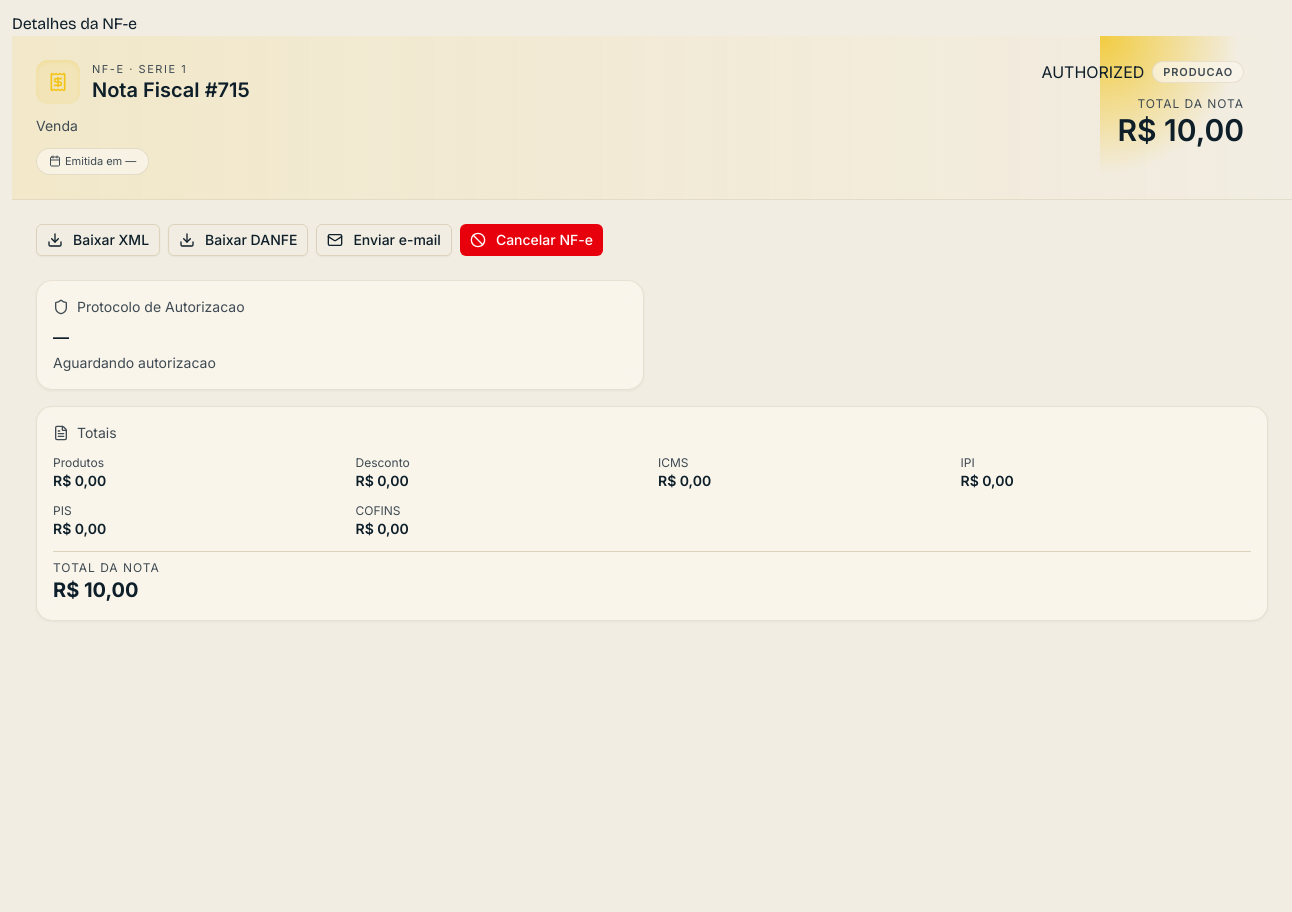
Test case: ficha da nota — erro no download aparece › corpo sem texto: frase padrão
Click the button "Baixar DANFE". click: (238, 240)
box: [168,224,308,256]
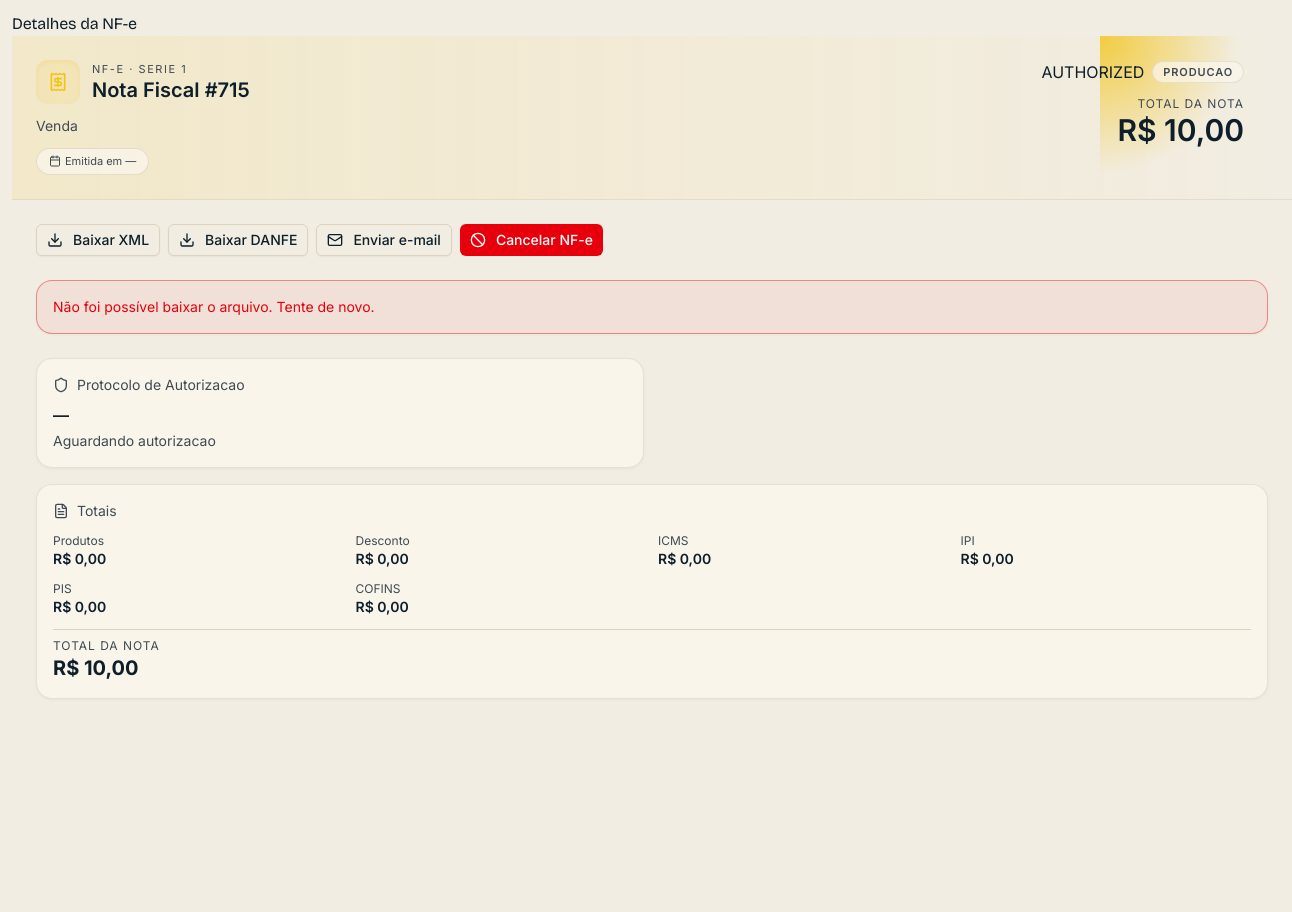
Expected: the message "Não foi possível baixar o arquivo. Tente de novo." is shown, [36,280,1268,334]
